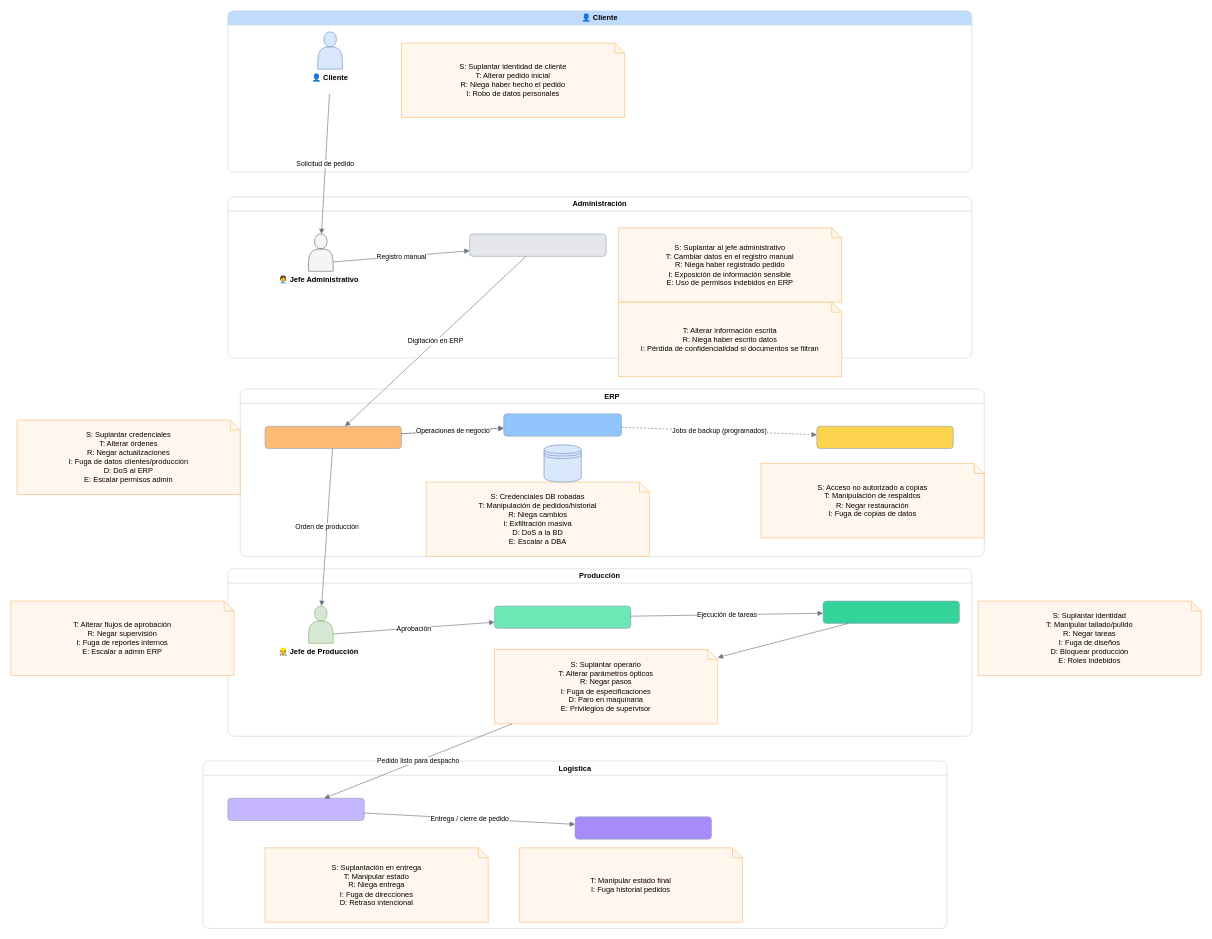
Some shapes in this 1212 by 939 pixel diagram are drawn without their labels. Here are the shapes that lost their labels. From the top down, the centre of each, then its label:
At pixel 537 244: "📝 Registros Manuales".
At pixel 332 437: "💻 ERP Ocular".
At pixel 562 424: "🗄️ Base de Datos".
At pixel 884 437: "💾 Backups automáticos".
At pixel 562 616: "⚙️ Producción de Lentes".
At pixel 890 611: "👨‍🏭 Operarios de Producción".
At pixel 295 809: "🚚 Mensajero".
At pixel 642 827: "📦 Lentes listos para entregar".
